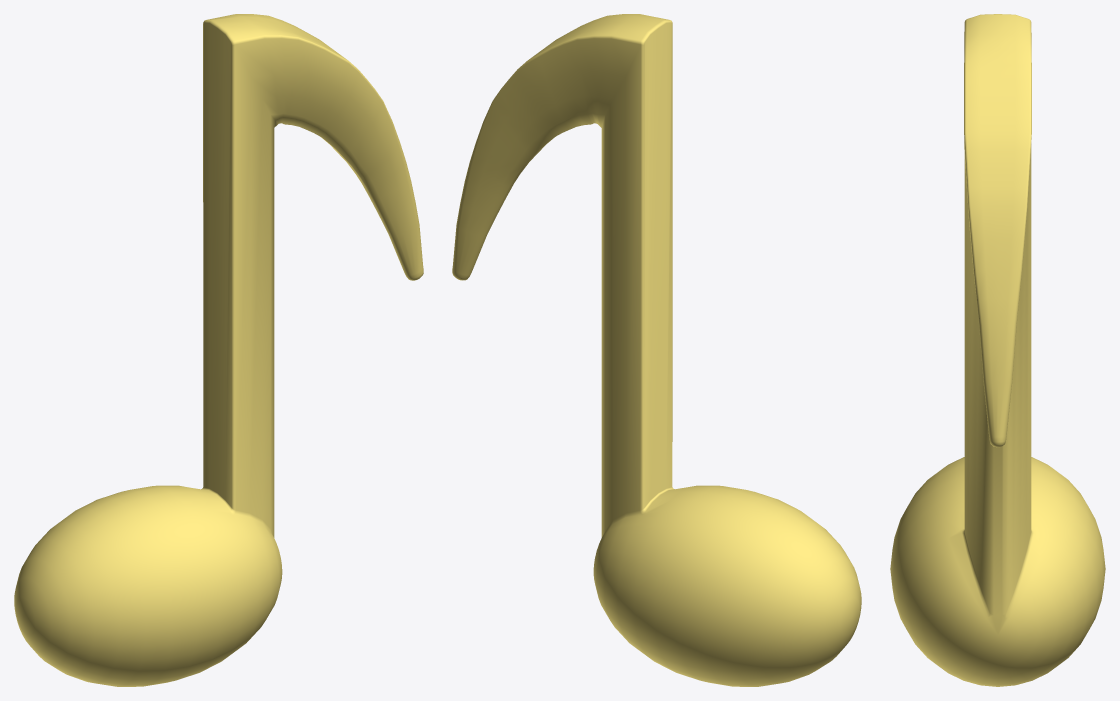
File: music_note.fbx
The picture shows the model from 3 angles, left to right: view 1: azimuth 30°, elevation 25°; view 2: azimuth 150°, elevation 25°; view 3: azimuth 270°, elevation 25°; orthographic projection. The views are drawn at different scales.
Visible parts, largest first — view 1: Sphere; view 2: Sphere; view 3: Sphere.
Boxes of the visible parts, x1,y1,x2,y2 form: Sphere: (14,14,423,686); Sphere: (452,14,861,686); Sphere: (890,14,1105,686).
Bounding box in the file's own units: 495 × 749 × 212.
